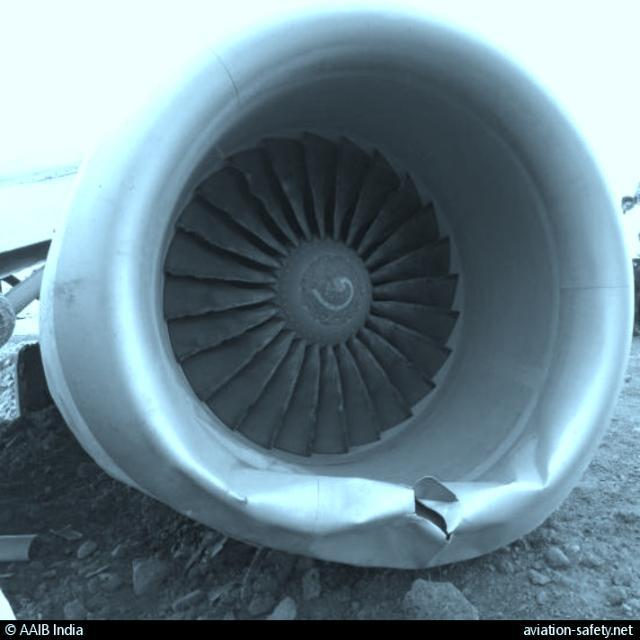crack: (408, 489, 455, 545)
dent: (236, 469, 398, 530), (504, 428, 562, 493)
